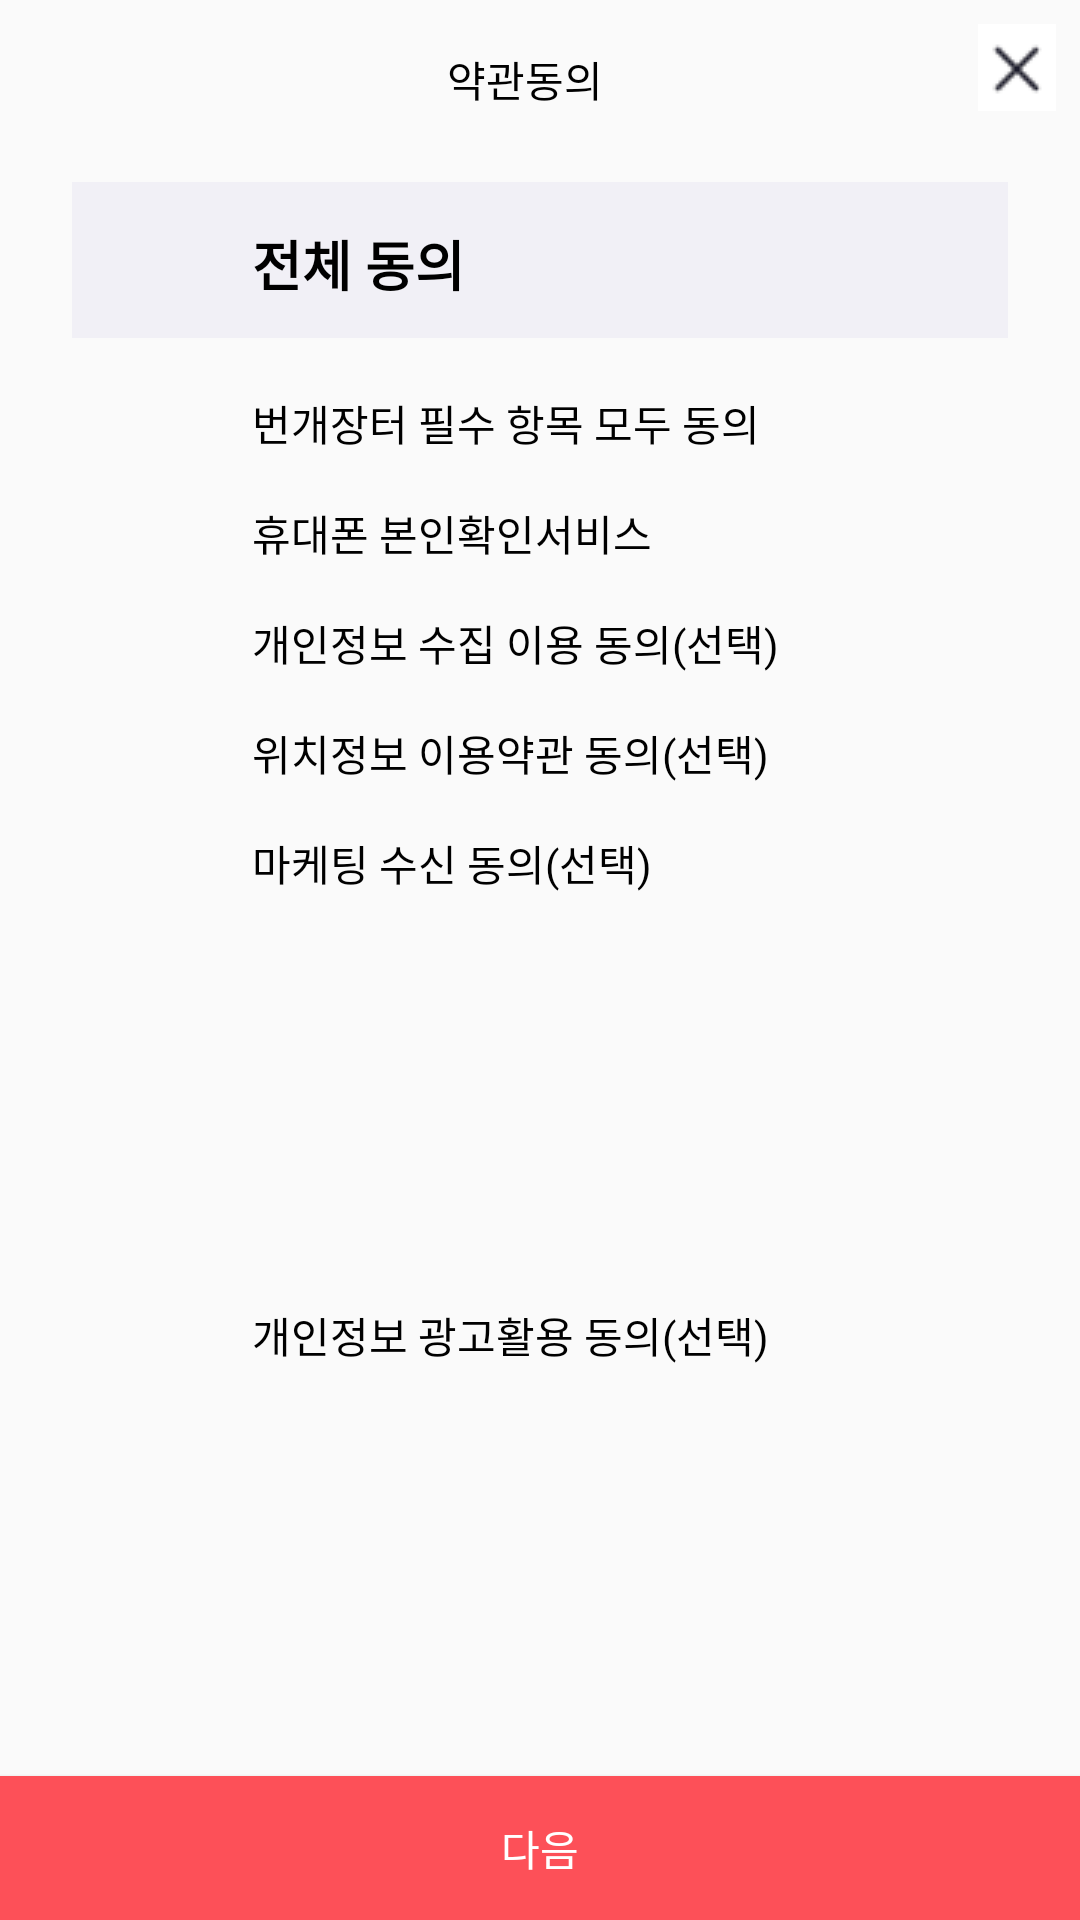

Locate icon controls on the screen. Image size 1080×1920, boxes as (left=x1, top=y1, right=x2, bottom=y2).
login exit: (left=993, top=45, right=1040, bottom=93)
